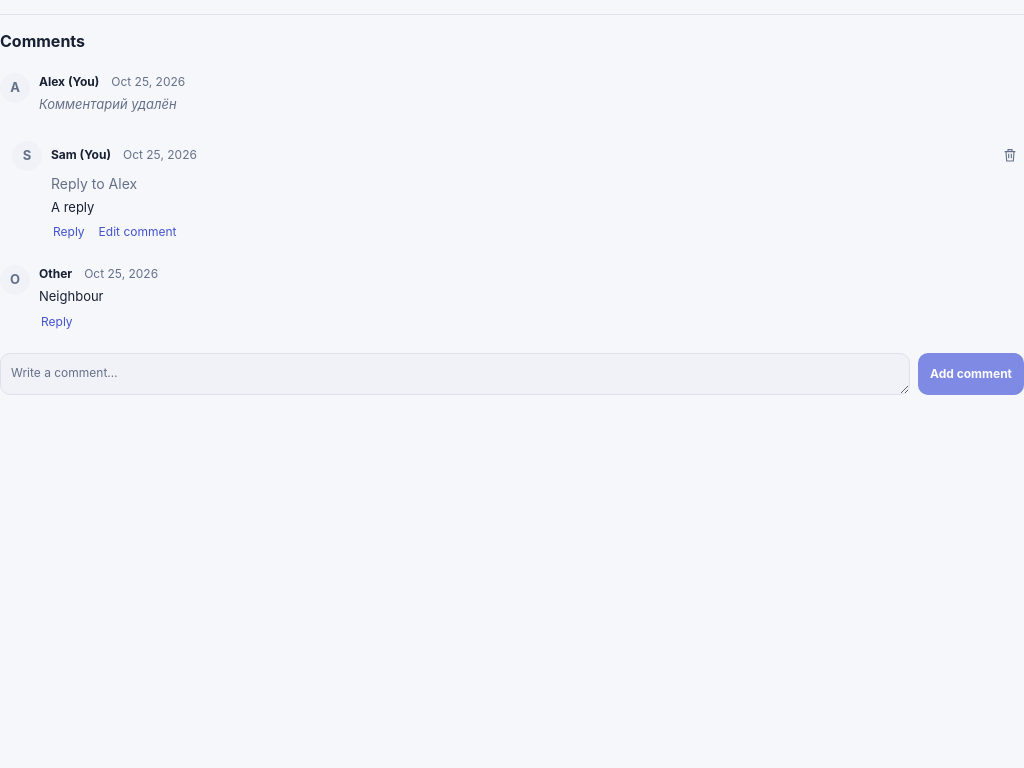
Test: reloads the server list so pruned ancestors disappear and neighbouring discussions survive
Click the button named "Delete comment". click: (1010, 154)
box: [996,140,1023,168]
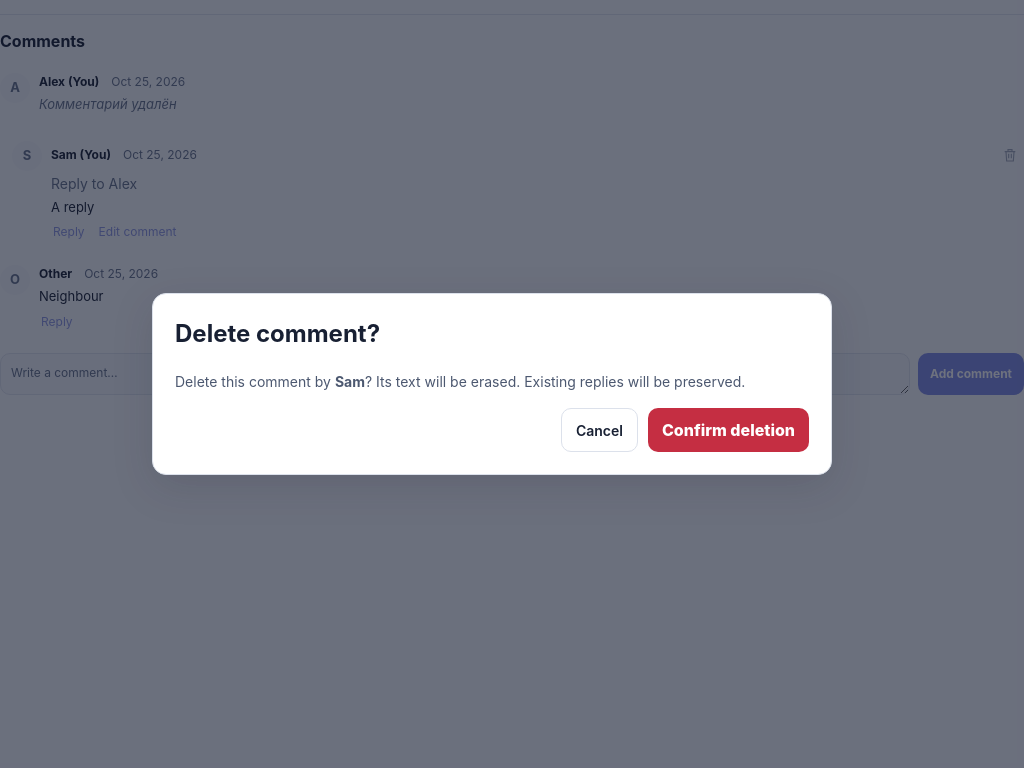
Click the button "Confirm deletion". click: (728, 430)
box: [648,408,809,452]
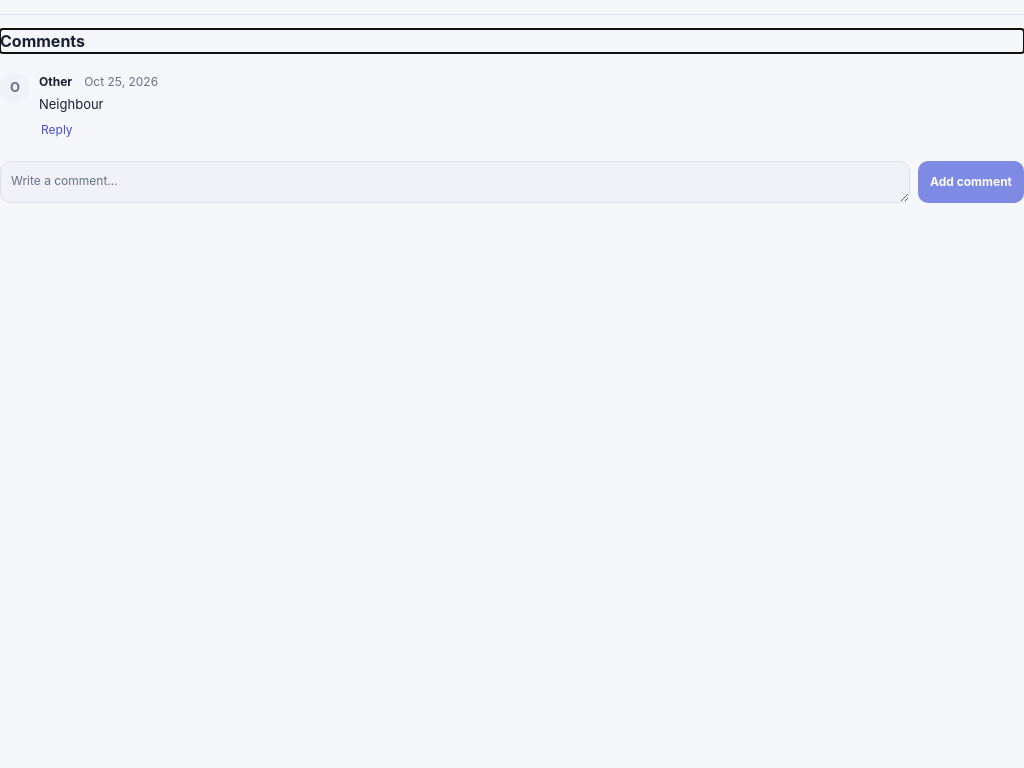
Expected: the text "Neighbour" is shown, [39,96,104,112]
Expected: the text "Комментарий удалён" is gone
Expected: the text "A reply" is gone
